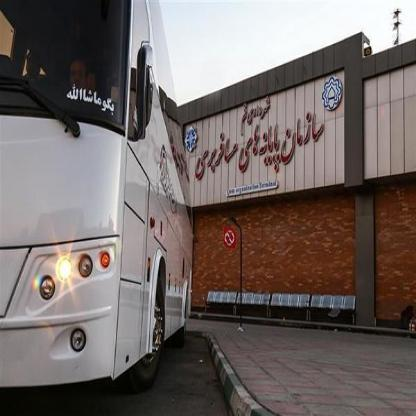Bus: (0, 0, 195, 408)
